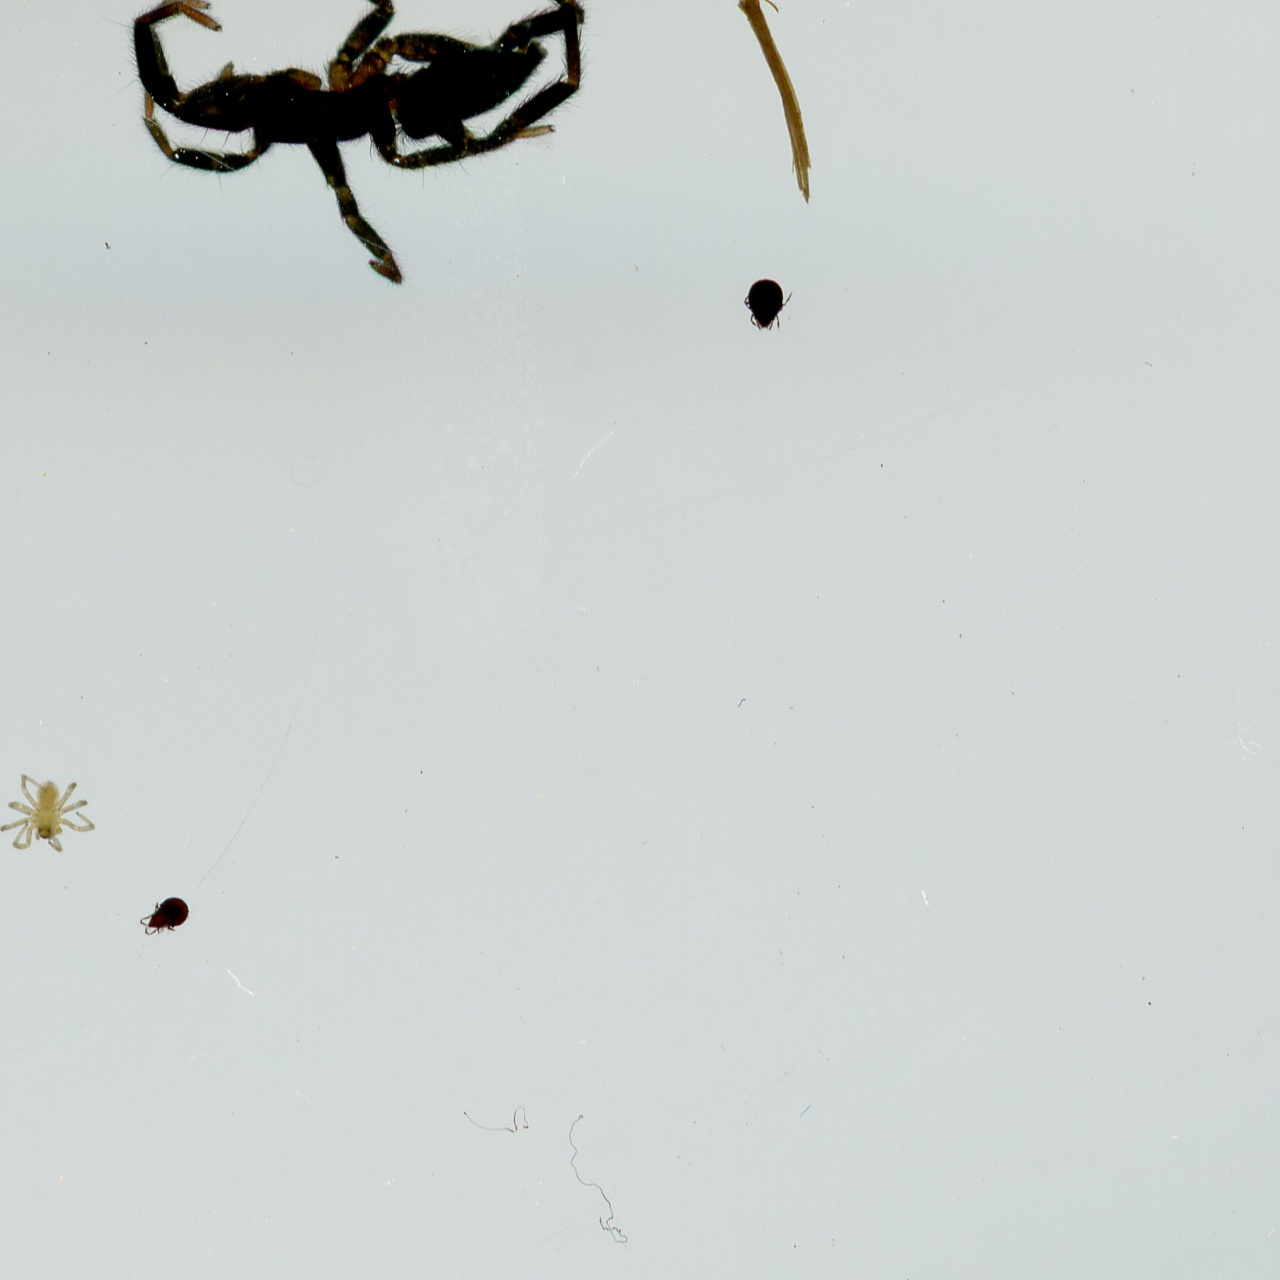arthropod: (100, 0, 594, 300), (0, 772, 102, 855), (741, 273, 798, 333), (136, 892, 193, 940)
